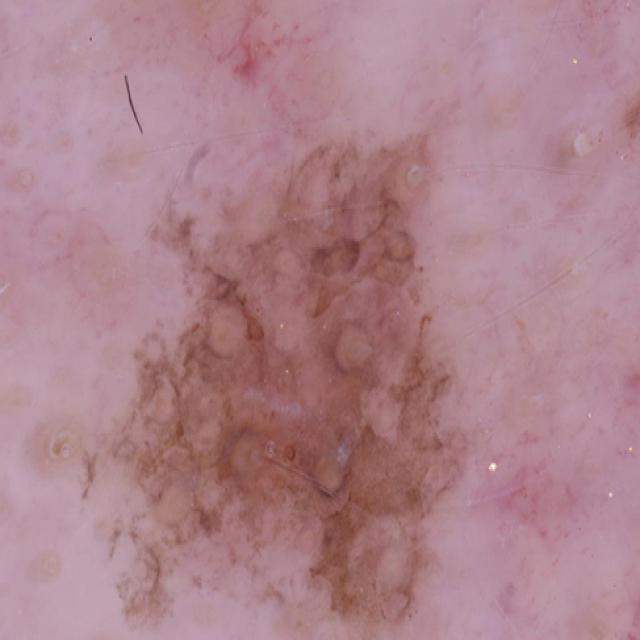Keratosis: (61, 133, 551, 640)
